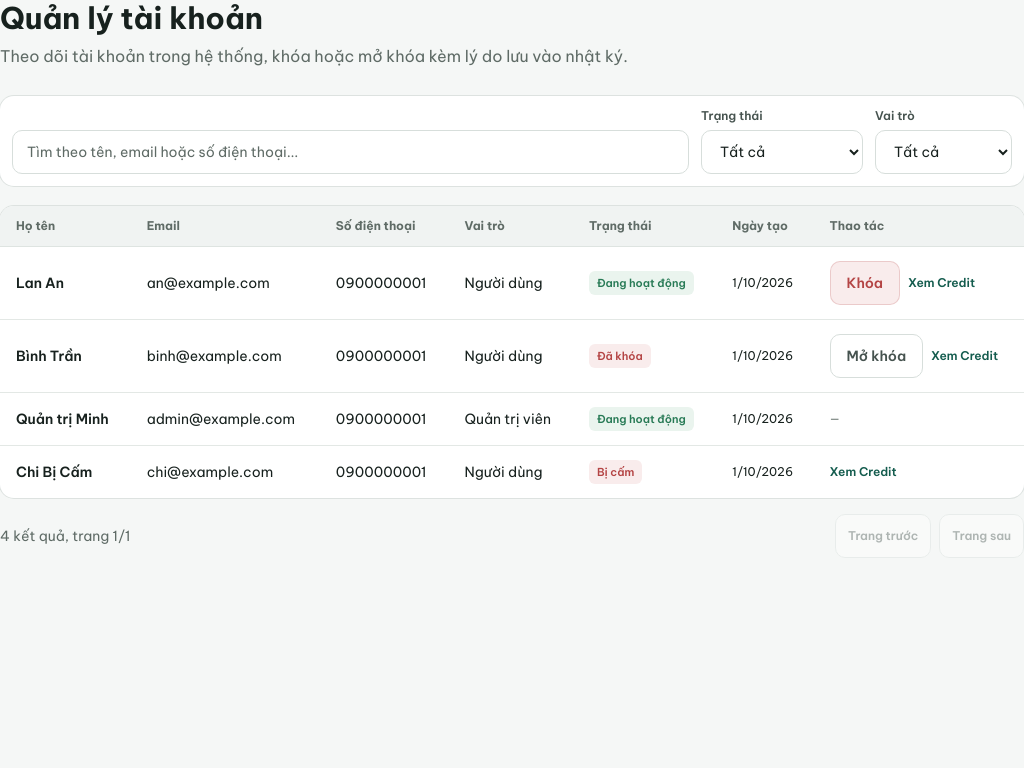
Test: AdminAccounts › khóa tài khoản phải nhập lý do rồi gọi API và tải lại danh sách
expect the text "Lan An" is shown: met, box left=0, top=246, right=131, bottom=320
Click the button "Khóa": (865, 283) left=830, top=261, right=900, bottom=305
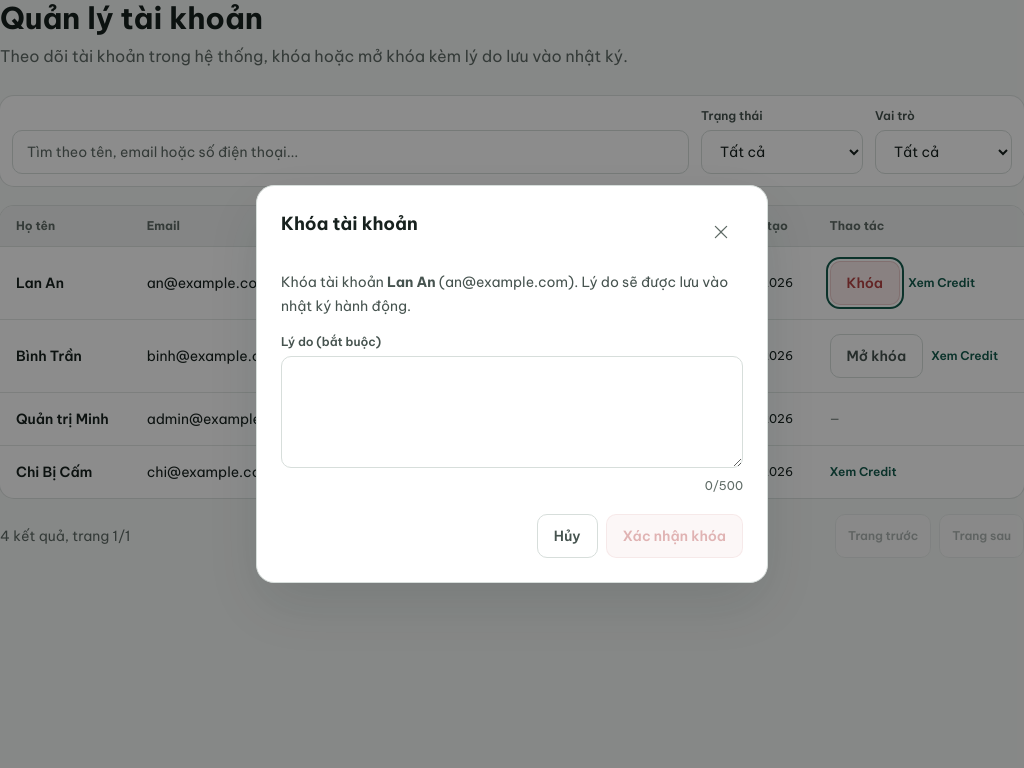
expect the button "Xác nhận khóa" is disabled: met, box left=606, top=514, right=743, bottom=558
In the text box labelled "Lý do (bắt buộc)": (512, 412) left=281, top=356, right=743, bottom=468, type "Đăng bài lừa đảo"
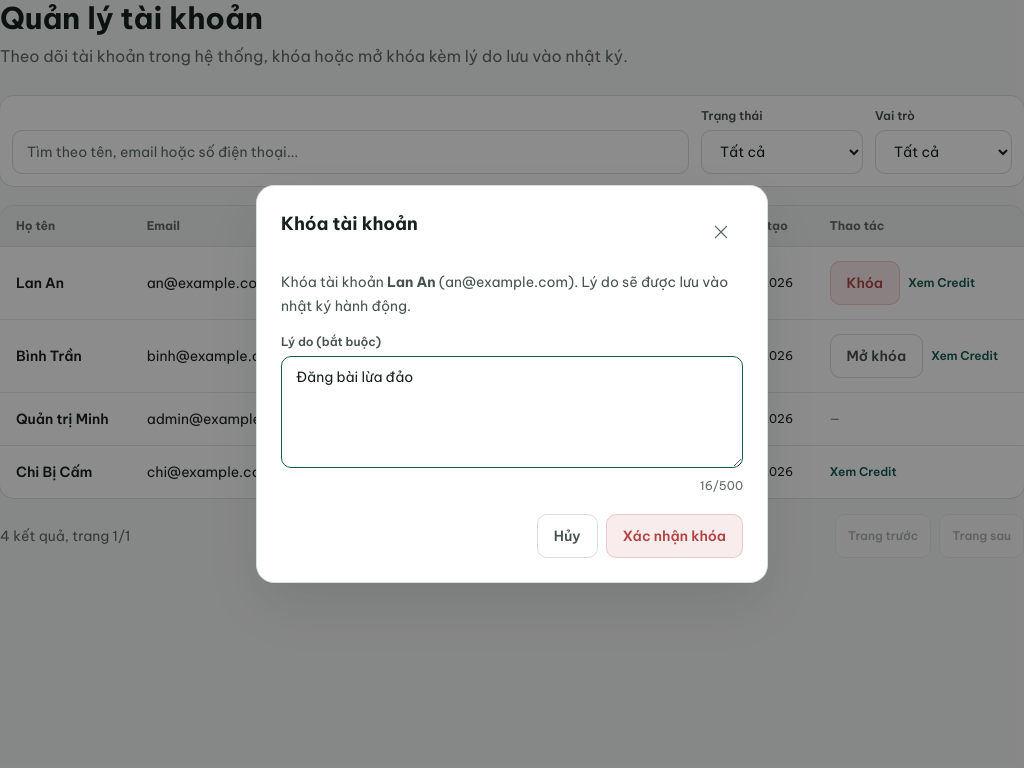
Click the button "Xác nhận khóa": (674, 536) left=606, top=514, right=743, bottom=558
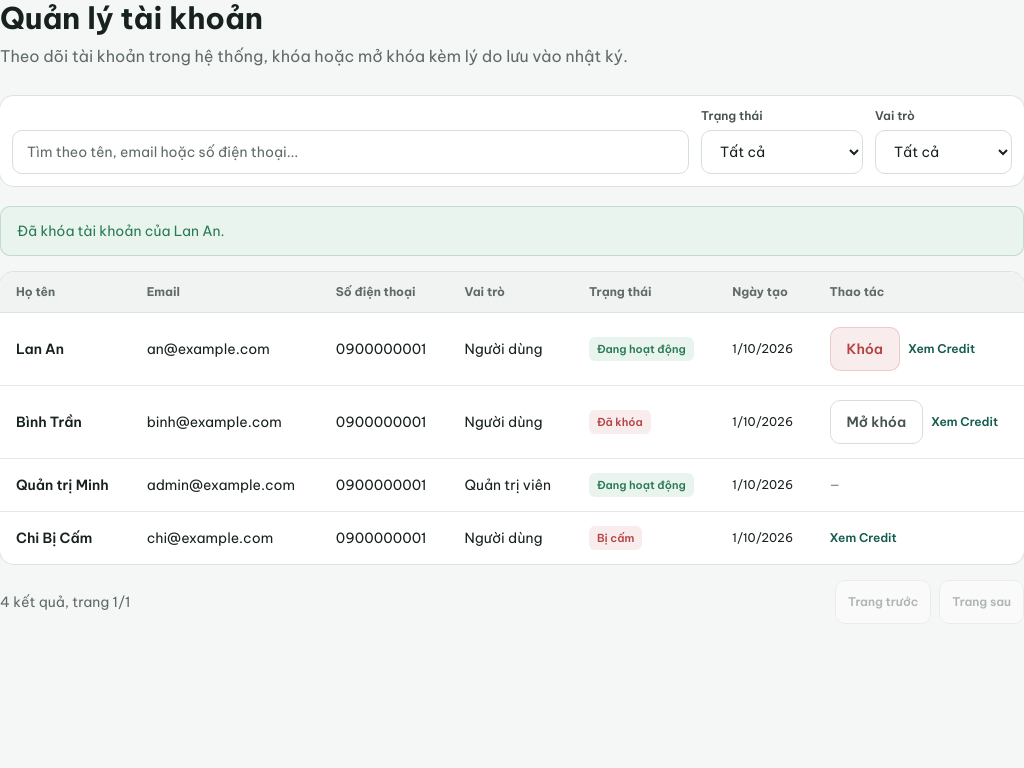
expect the text "Đã khóa tài khoản của Lan An." is shown: met, box left=0, top=206, right=1023, bottom=256
